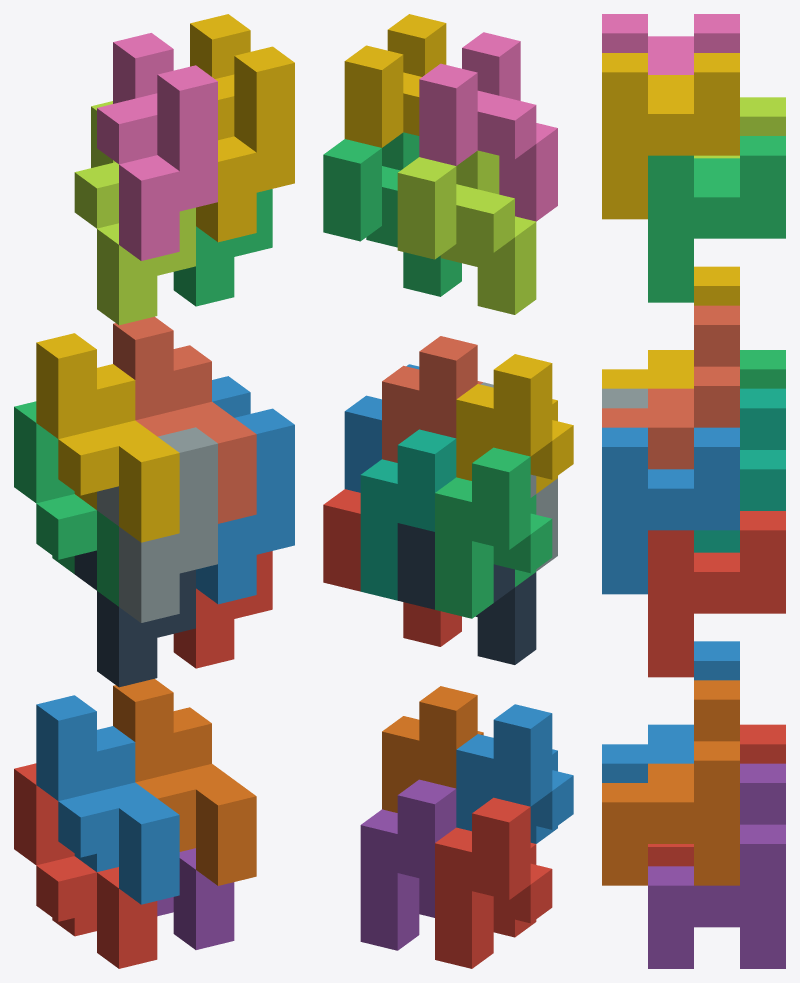
File: tiling.obj
3 views of the same model, side by side, from view 1: azimuth 30°, elevation 25°; view 2: azimuth 150°, elevation 25°; view 3: azimuth 270°, elevation 25° (orthographic). The views are drawn at different scales.
Visible parts, largest first — view 1: copy_2_domain_4, copy_1_domain_2, copy_1_domain_4, copy_2_domain_8, copy_1_domain_6, copy_1_domain_8, copy_1_domain_1, copy_2_domain_2, copy_2_domain_6, copy_2_domain_3, copy_1_domain_3, copy_2_domain_1 (+3 smaller); view 2: copy_2_domain_4, copy_2_domain_3, copy_1_domain_1, copy_1_domain_3, copy_1_domain_5, copy_1_domain_2, copy_1_domain_4, copy_2_domain_7, copy_1_domain_7, copy_2_domain_8, copy_2_domain_1, copy_1_domain_6 (+4 smaller); view 3: copy_1_domain_6, copy_1_domain_5, copy_2_domain_8, copy_2_domain_6, copy_2_domain_7, copy_2_domain_5, copy_1_domain_8, copy_1_domain_7, copy_1_domain_2, copy_2_domain_4, copy_1_domain_4, copy_1_domain_1 (+3 smaller).
Boxes of the visible parts, x1,y1,x2,y2 form: copy_2_domain_4: [97, 33, 217, 260]; copy_1_domain_2: [36, 695, 179, 904]; copy_1_domain_4: [36, 333, 179, 542]; copy_2_domain_8: [190, 14, 294, 242]; copy_1_domain_6: [113, 678, 256, 885]; copy_1_domain_8: [113, 316, 256, 523]; copy_1_domain_1: [14, 763, 157, 968]; copy_2_domain_2: [97, 427, 217, 622]; copy_2_domain_6: [196, 376, 294, 604]; copy_2_domain_3: [74, 101, 195, 325]; copy_1_domain_3: [14, 401, 118, 606]; copy_2_domain_1: [74, 550, 195, 687]; copy_2_domain_4: [419, 32, 557, 221]; copy_2_domain_3: [397, 150, 536, 314]; copy_1_domain_1: [435, 797, 552, 968]; copy_1_domain_3: [435, 447, 552, 618]; copy_1_domain_5: [360, 779, 456, 950]; copy_1_domain_2: [456, 704, 573, 843]; copy_1_domain_4: [456, 354, 573, 493]; copy_2_domain_7: [323, 132, 461, 296]; copy_1_domain_7: [360, 429, 456, 600]; copy_2_domain_8: [344, 14, 446, 147]; copy_2_domain_1: [397, 523, 536, 664]; copy_1_domain_6: [382, 686, 483, 812]; copy_1_domain_6: [602, 680, 739, 885]; copy_1_domain_5: [648, 763, 785, 968]; copy_2_domain_8: [602, 53, 739, 219]; copy_2_domain_6: [602, 427, 739, 594]; copy_2_domain_7: [648, 136, 785, 302]; copy_2_domain_5: [648, 511, 785, 677]; copy_1_domain_8: [602, 305, 739, 469]; copy_1_domain_7: [694, 388, 785, 552]; copy_1_domain_2: [602, 641, 739, 782]; copy_2_domain_4: [602, 14, 739, 74]; copy_1_domain_4: [602, 266, 739, 388]; copy_1_domain_1: [648, 724, 785, 866].
Bounding box in the file's own units: 5 × 22 × 4.
